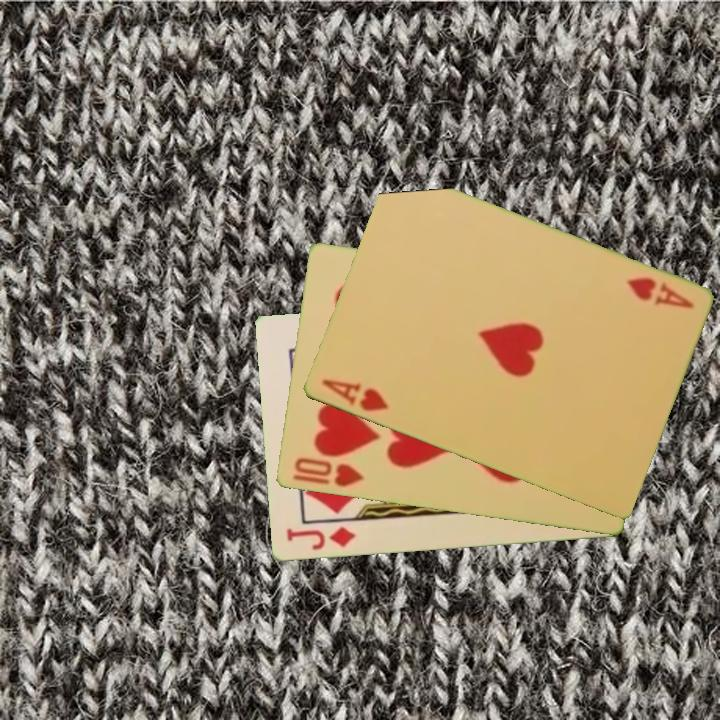10h: (289, 454, 366, 490)
Ah: (622, 274, 697, 312), (318, 376, 391, 415)
Jd: (283, 523, 358, 553)
